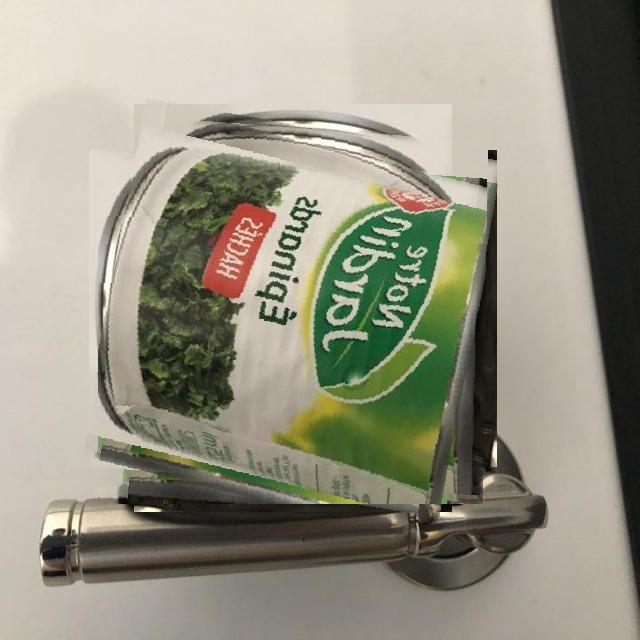recyclable: (98, 113, 488, 504)
